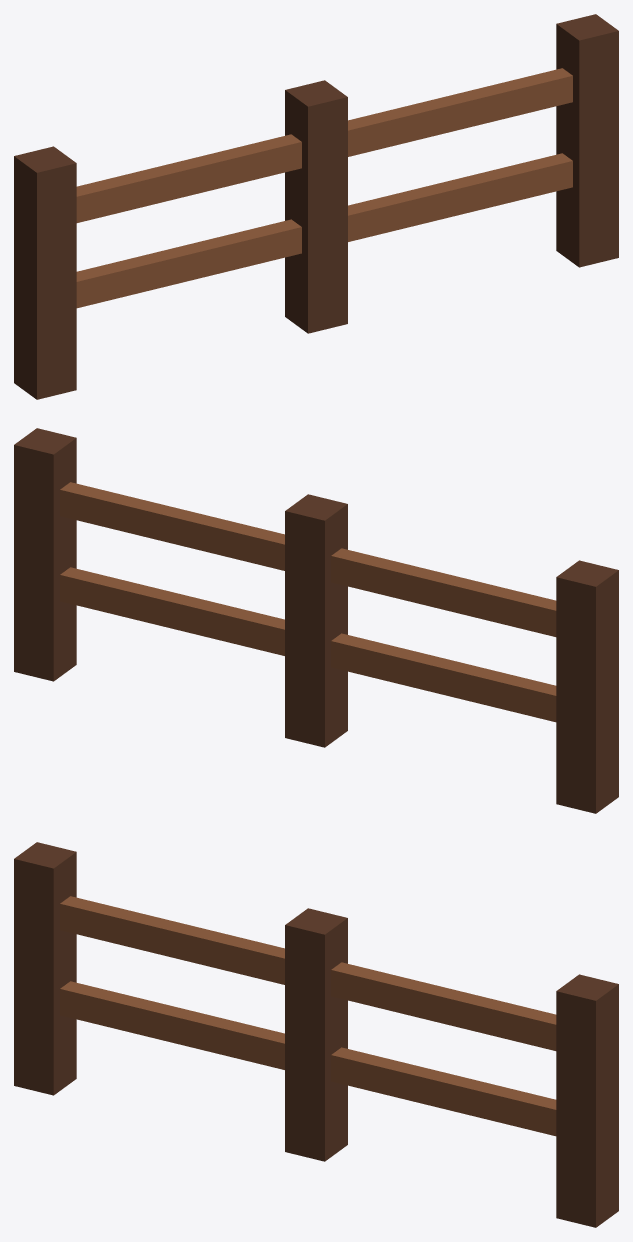
File: CA_Valla_Madera.obj
3 views of the same model, one above another, from view 1: azimuth 30°, elevation 25°; view 2: azimuth 150°, elevation 25°; view 3: azimuth 330°, elevation 25° (orthographic).
Parts seen in each view (by area): view 1: CA_Valla_Madera; view 2: CA_Valla_Madera; view 3: CA_Valla_Madera.
Boxes of the visible parts, x1=… form: CA_Valla_Madera: x1=14, y1=14, x2=618, y2=399; CA_Valla_Madera: x1=14, y1=428, x2=618, y2=813; CA_Valla_Madera: x1=14, y1=842, x2=618, y2=1227.
Bounding box in the file's own units: 3.22 × 1.2 × 0.22.
